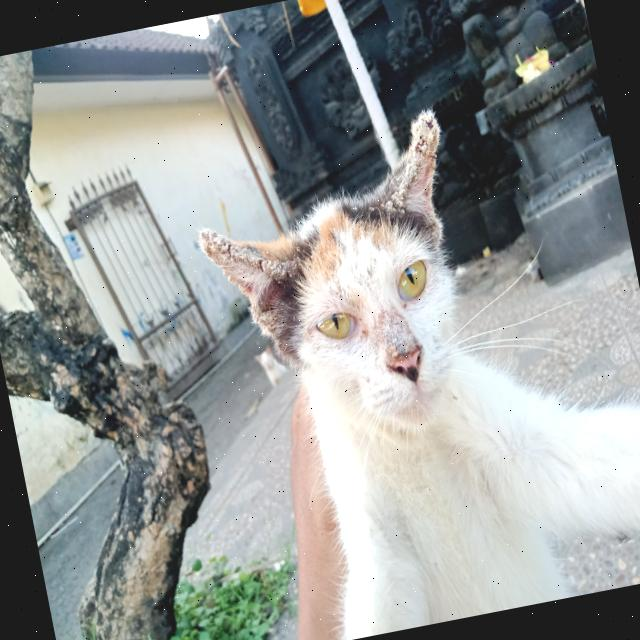cat-scabies: (194, 202, 325, 368), (353, 98, 463, 254)
